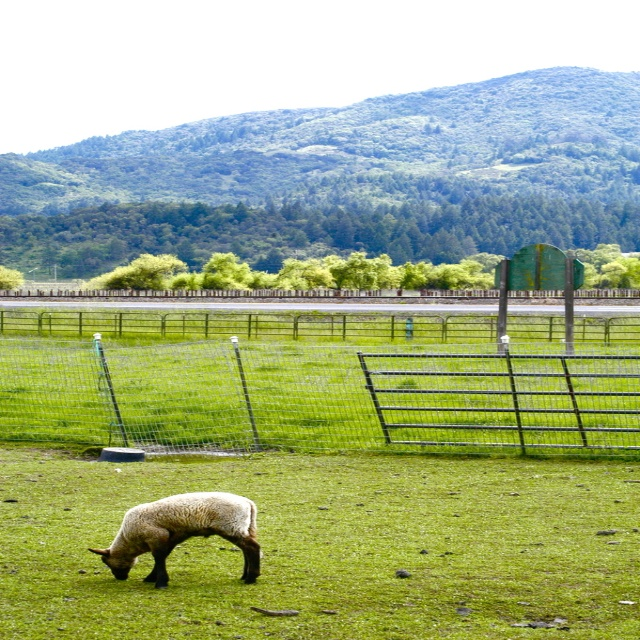Sheep: (86, 491, 261, 587)
